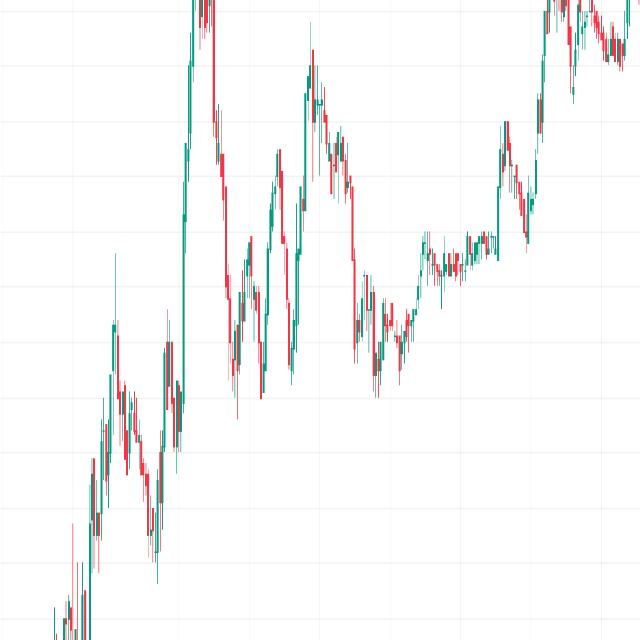Triple-Bottom: (218, 175, 308, 400)
